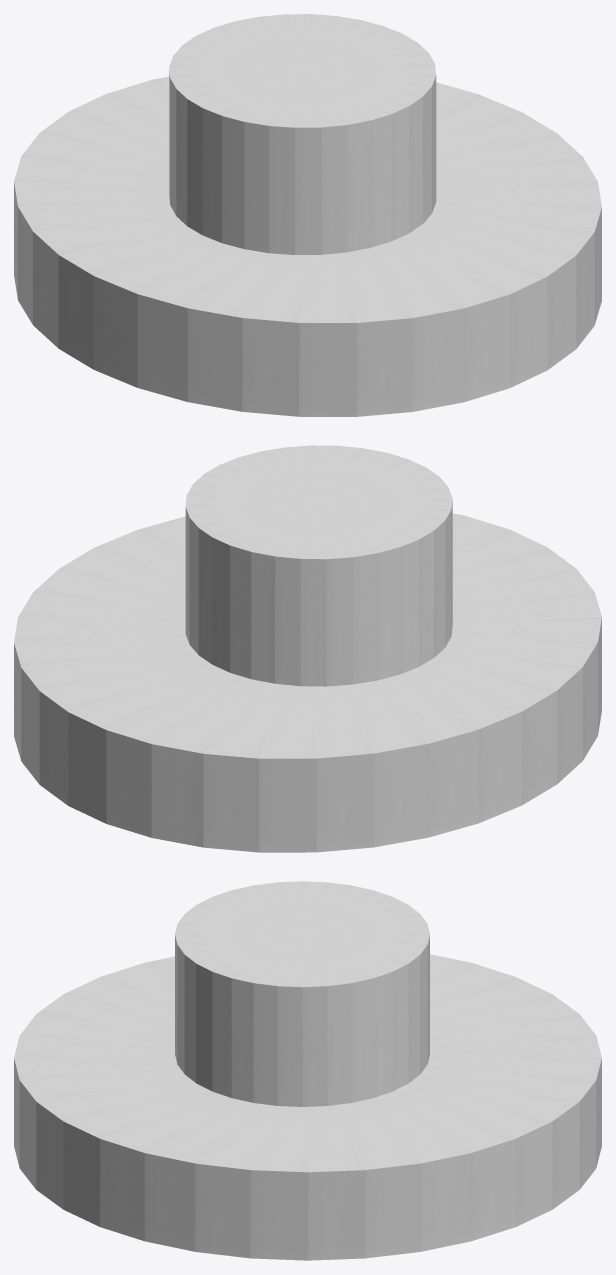
Rendered from Paddle.obj.
3 renders of one model, top to bottom at view 1: azimuth 30°, elevation 25°; view 2: azimuth 150°, elevation 25°; view 3: azimuth 270°, elevation 25°, orthographic. The views are drawn at different scales.
Visible parts, largest first — view 1: Cylinder.001; view 2: Cylinder.001; view 3: Cylinder.001.
Boxes of the visible parts, x1,y1,x2,y2 form: Cylinder.001: [14, 14, 601, 416]; Cylinder.001: [14, 445, 601, 852]; Cylinder.001: [14, 881, 601, 1260].
Size of the model in its own units: 0.5701 by 0.2418 by 0.6189.
